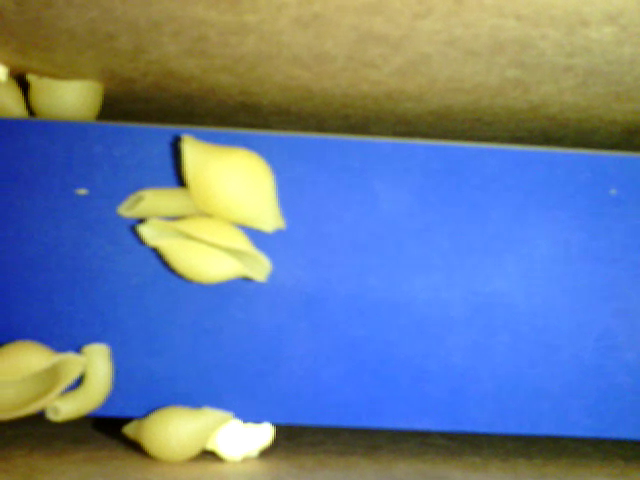elbow: (45, 342, 114, 423)
penne: (112, 188, 204, 216)
shell: (179, 133, 286, 234), (135, 213, 270, 286), (1, 339, 87, 421), (121, 403, 233, 464), (23, 73, 102, 120)
